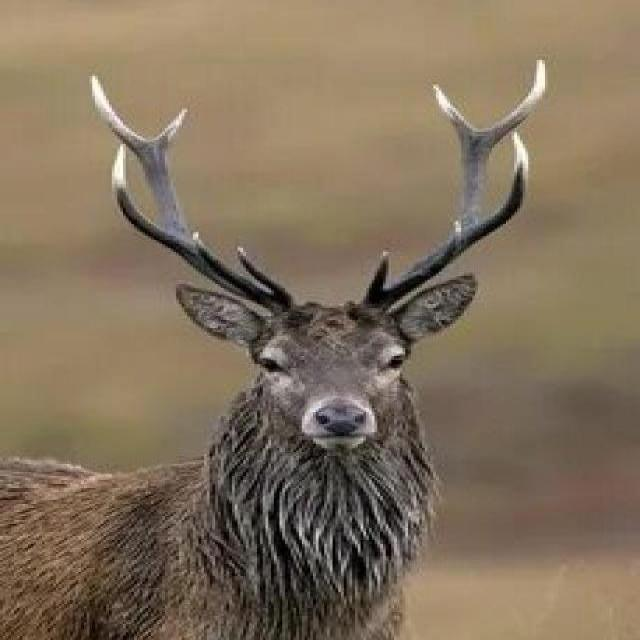deer: (50, 105, 591, 640)
